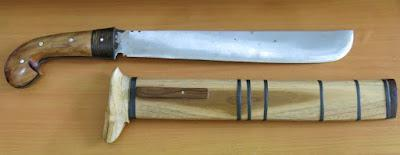facao: (1, 29, 364, 75)
